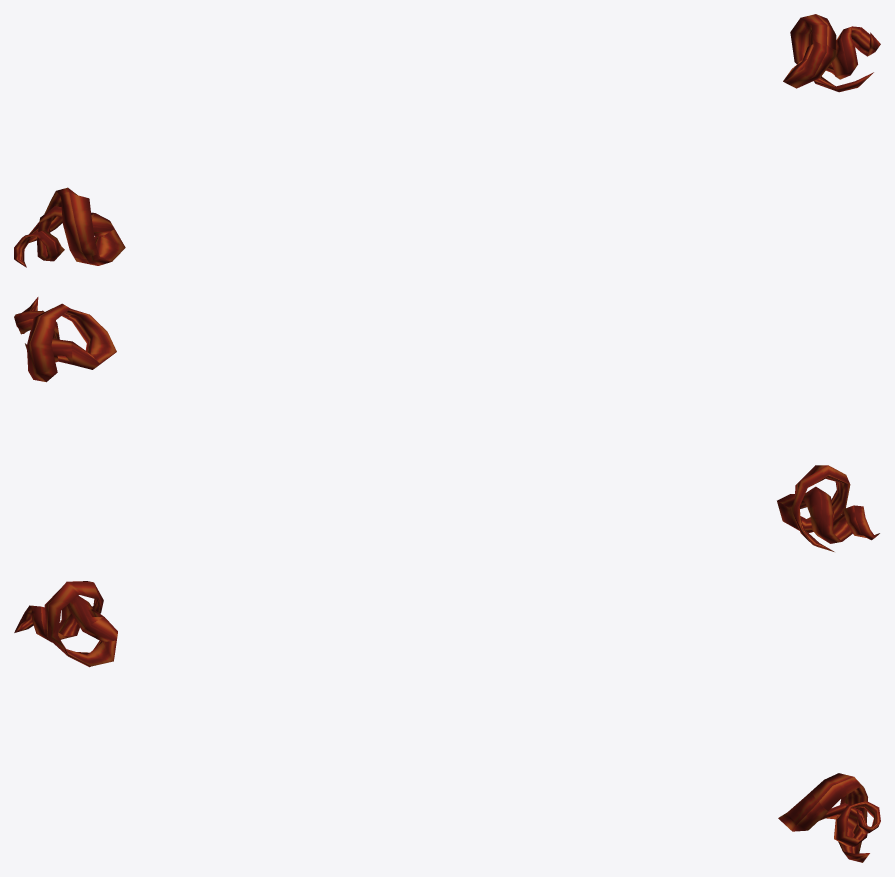
Rendered from EarCurls.fbx.
3 views of the same model, one above another, from view 1: azimuth 30°, elevation 25°; view 2: azimuth 150°, elevation 25°; view 3: azimuth 330°, elevation 25° (orthographic).
Visible parts, largest first — view 1: ear_curls; view 2: ear_curls; view 3: ear_curls.
Boxes of the visible parts, bbox=[...] form: ear_curls: bbox=[14, 14, 880, 267]; ear_curls: bbox=[14, 297, 879, 551]; ear_curls: bbox=[14, 581, 880, 862].
Size of the model in its own units: 84.85 by 8.86 by 8.27.
